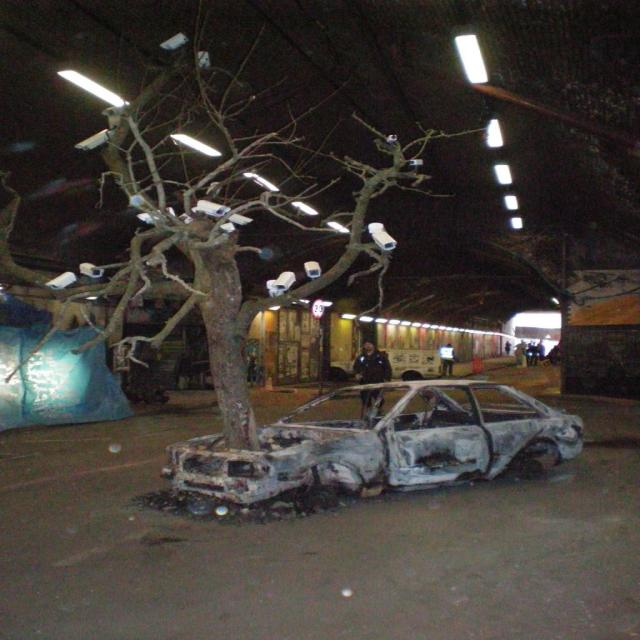car: (145, 369, 580, 527)
